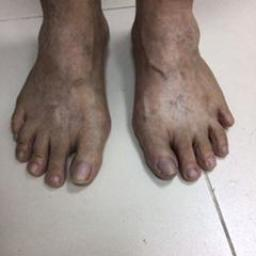Dorsal View -Both Feet-: (6, 3, 240, 202)
